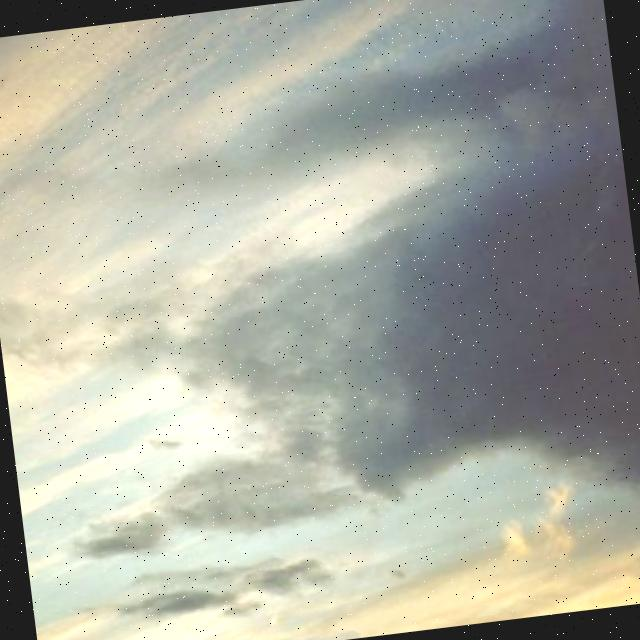Cs: (1, 24, 640, 558)
